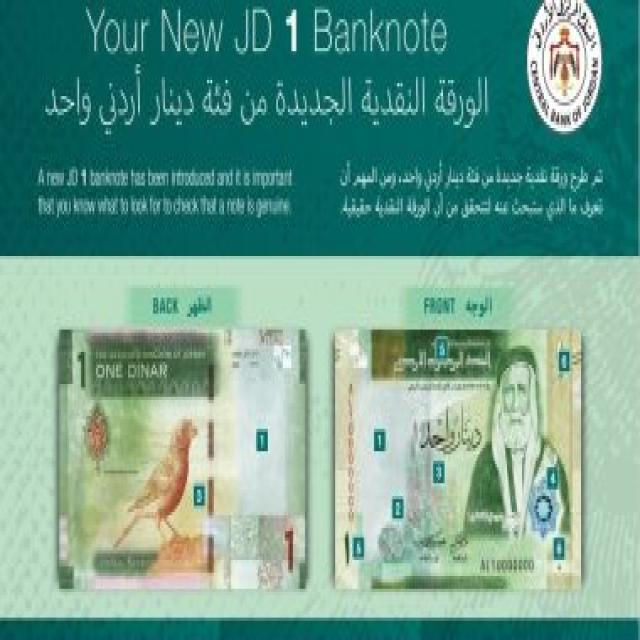1-dinar: (333, 320, 587, 600), (54, 323, 310, 587)
